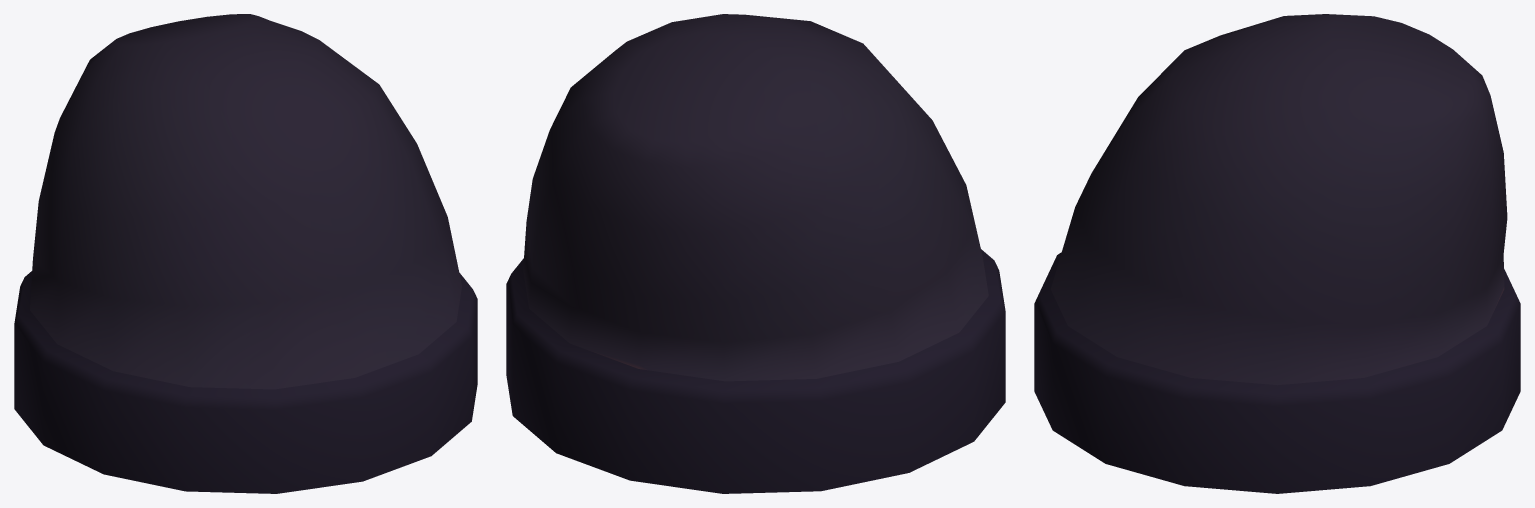
Rendered from beanie.fbx.
3 renders of one model, left to right at view 1: azimuth 30°, elevation 25°; view 2: azimuth 150°, elevation 25°; view 3: azimuth 270°, elevation 25°, orthographic. The views are drawn at different scales.
Parts seen in each view (by area): view 1: beanie; view 2: beanie; view 3: beanie.
Part boxes in pixels (x1=…): beanie: x1=14, y1=14, x2=477, y2=493; beanie: x1=506, y1=14, x2=1005, y2=493; beanie: x1=1034, y1=14, x2=1520, y2=493.
Size of the model in its own units: 67.66 by 55.17 by 67.66.
